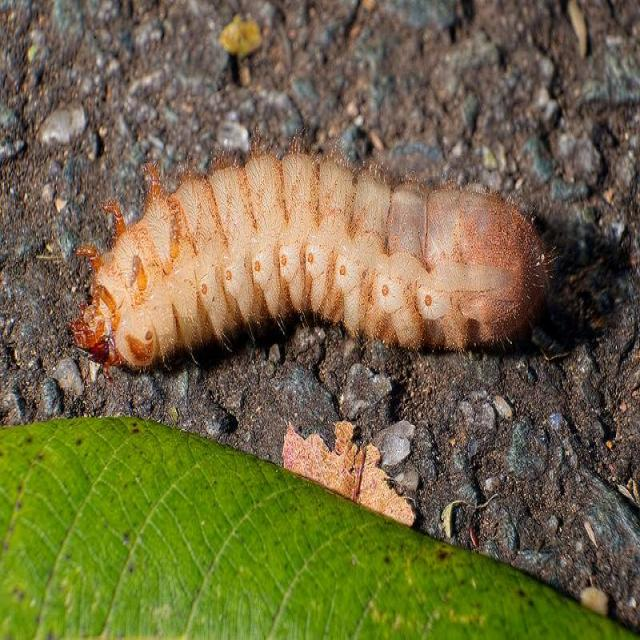Grub-Adult-: (59, 133, 544, 394)
